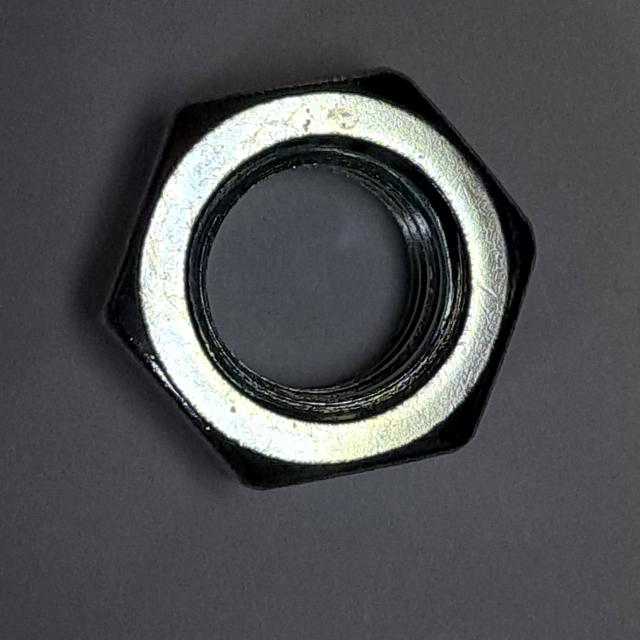Excellent: (77, 46, 552, 514)
